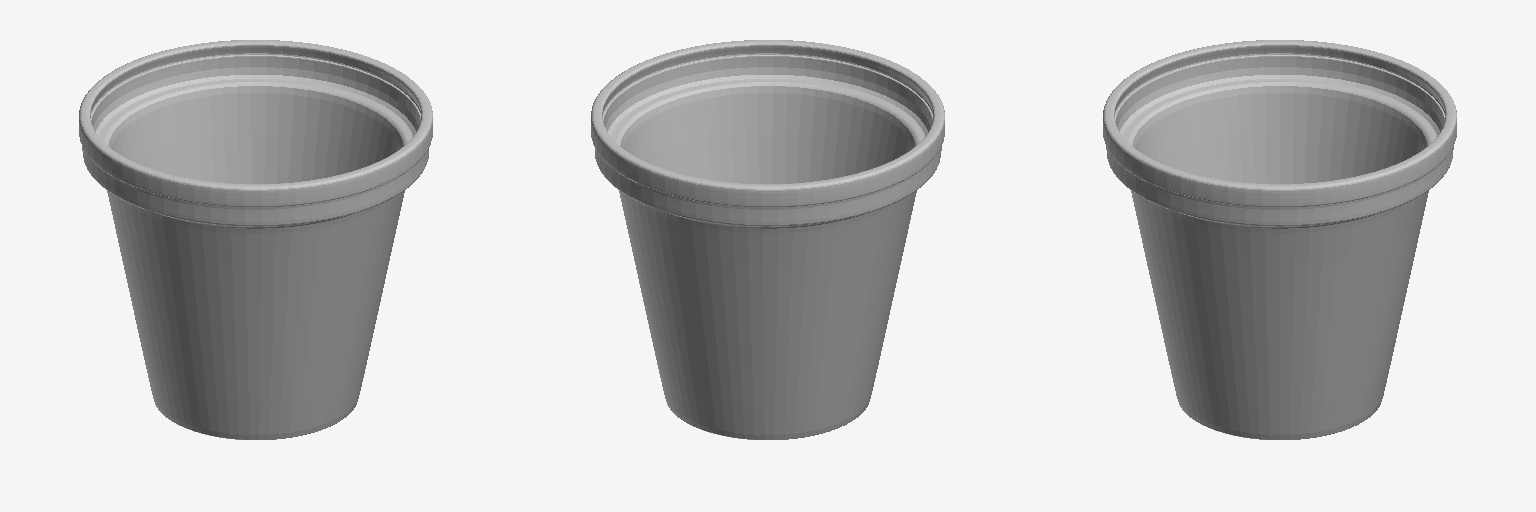
The model's file is pot.obj.
3 renders of one model, left to right at view 1: azimuth 30°, elevation 25°; view 2: azimuth 150°, elevation 25°; view 3: azimuth 270°, elevation 25°, orthographic.
Visible parts, largest first — view 1: Cylinder; view 2: Cylinder; view 3: Cylinder.
Boxes of the visible parts, x1=… form: Cylinder: x1=79, y1=40, x2=432, y2=439; Cylinder: x1=591, y1=40, x2=944, y2=439; Cylinder: x1=1103, y1=40, x2=1456, y2=439.
Size of the model in its own units: 0.4649 by 0.4125 by 0.4649.